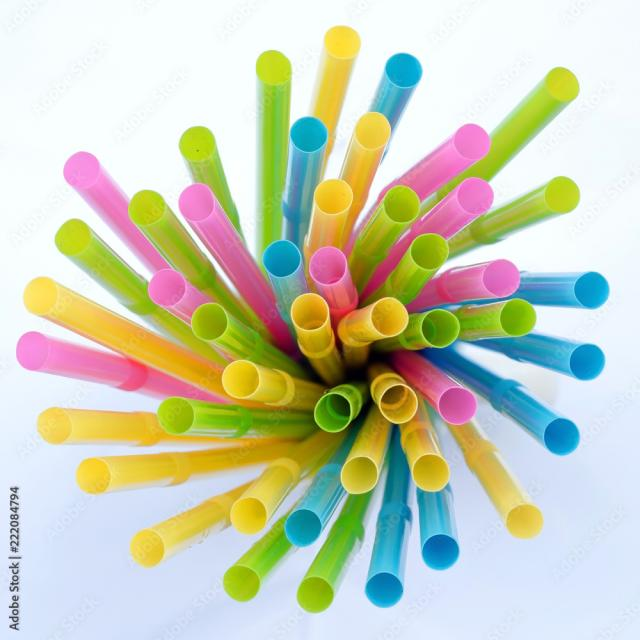plastic: (245, 34, 291, 255)
